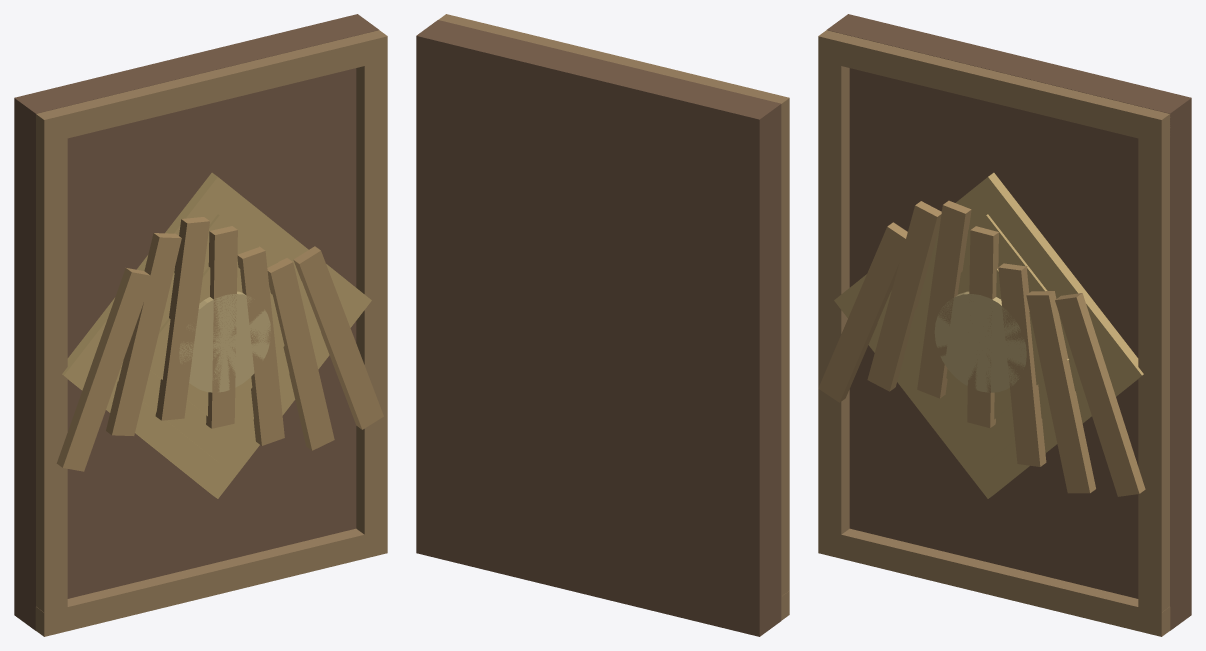
File: ban_relief.glb
3 views of the same model, side by side, from view 1: azimuth 30°, elevation 25°; view 2: azimuth 150°, elevation 25°; view 3: azimuth 330°, elevation 25° (orthographic).
Parts seen in each view (by area): view 1: wood_base, frame_left, frame_right, relief_diamond_0, frame_top, frame_bottom, relief_bar_0, relief_core, relief_bar_2, relief_bar_1, relief_bar_5, relief_bar_6 (+4 smaller); view 2: wood_base, frame_left, frame_top; view 3: wood_base, frame_right, frame_left, relief_diamond_0, frame_top, frame_bottom, relief_core, relief_bar_6, relief_bar_5, relief_bar_1, relief_diamond_1, relief_bar_0 (+4 smaller).
Part boxes in pixels (x1,y1,x2,y2): wood_base: [14, 14, 378, 630]; frame_left: [36, 136, 67, 614]; frame_right: [356, 58, 387, 536]; relief_diamond_0: [62, 172, 371, 498]; frame_top: [36, 30, 387, 143]; frame_bottom: [35, 528, 387, 636]; relief_bar_0: [56, 268, 152, 471]; relief_core: [179, 291, 270, 392]; relief_bar_2: [155, 217, 209, 420]; relief_bar_1: [106, 233, 181, 435]; relief_bar_5: [267, 258, 334, 450]; relief_bar_6: [293, 246, 383, 429]; wood_base: [416, 20, 781, 636]; frame_left: [781, 122, 789, 596]; frame_top: [438, 14, 789, 127]; wood_base: [827, 14, 1191, 630]; frame_right: [1138, 136, 1169, 614]; frame_left: [818, 58, 849, 536]; relief_diamond_0: [834, 172, 1143, 498]; frame_top: [818, 30, 1170, 143]; frame_bottom: [818, 528, 1170, 636]; relief_core: [934, 291, 1026, 392]; relief_bar_6: [1055, 293, 1145, 496]; relief_bar_5: [1026, 291, 1095, 493]; relief_bar_1: [867, 201, 941, 391]; relief_diamond_1: [877, 214, 1082, 462]; relief_bar_0: [818, 222, 908, 402].
Size of the model in its own units: 0.82 by 1.18 by 0.1625.
